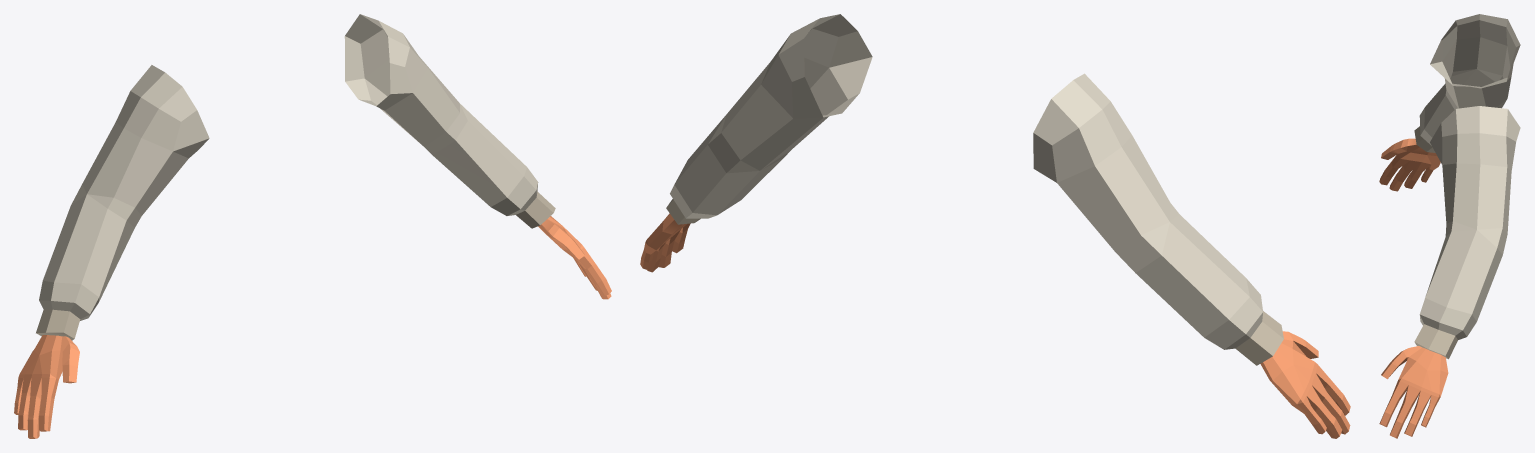
File: PlayerArms.fbx
3 renders of one model, left to right at view 1: azimuth 30°, elevation 25°; view 2: azimuth 150°, elevation 25°; view 3: azimuth 270°, elevation 25°, orthographic. The views are drawn at different scales.
Visible parts, largest first — view 1: Kira_Shirt_Arms; view 2: Kira_Shirt_Arms; view 3: Kira_Shirt_Arms.
Boxes of the visible parts, bbox=[...] form: Kira_Shirt_Arms: bbox=[14, 14, 611, 438]; Kira_Shirt_Arms: bbox=[640, 14, 1350, 438]; Kira_Shirt_Arms: bbox=[1379, 14, 1520, 438].
Size of the model in its own units: 115 by 53.97 by 27.15.
